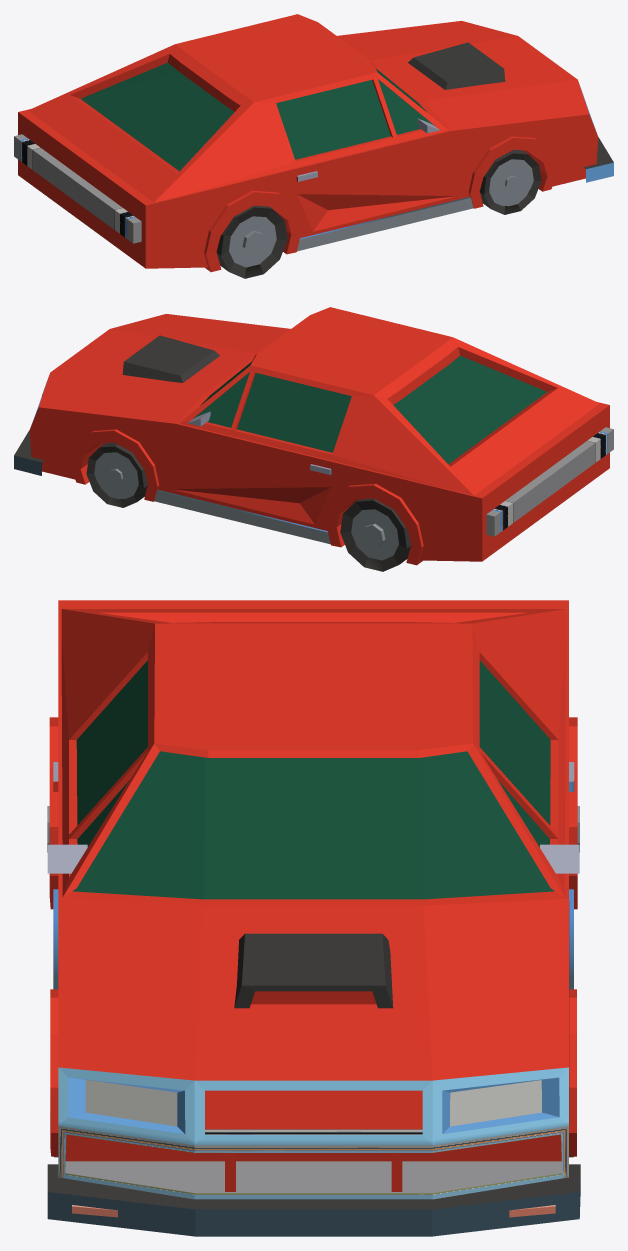
Rendered from transport_03.fbx.
3 renders of one model, top to bottom at view 1: azimuth 30°, elevation 25°; view 2: azimuth 150°, elevation 25°; view 3: azimuth 270°, elevation 25°, orthographic. The views are drawn at different scales.
Visible parts, largest first — view 1: transport_03; view 2: transport_03; view 3: transport_03.
Part boxes in pixels (bbox=[...]): transport_03: bbox=[14, 14, 613, 278]; transport_03: bbox=[14, 307, 613, 571]; transport_03: bbox=[47, 600, 580, 1236].
Size of the model in its own units: 257 by 121 by 74.45.
